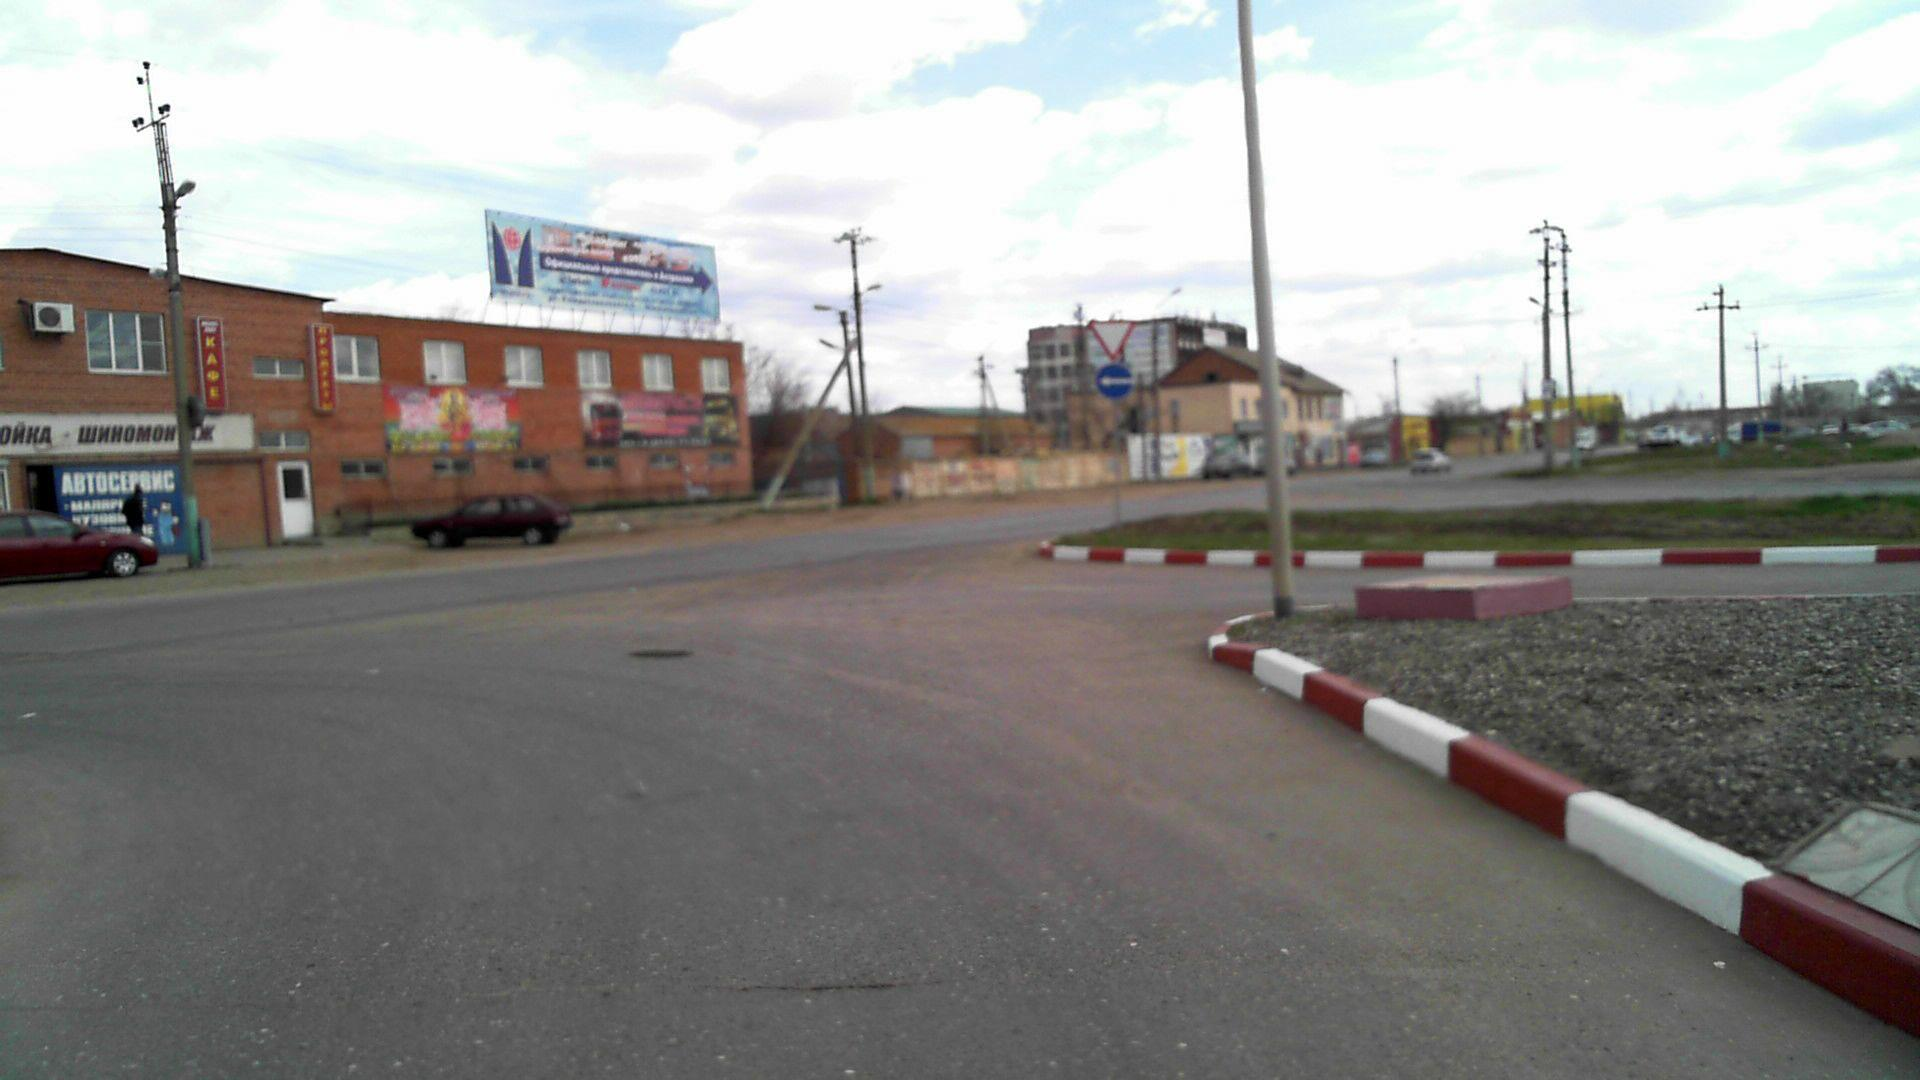2_4: (1087, 318, 1131, 359)
4_2_2: (1095, 363, 1133, 400)
